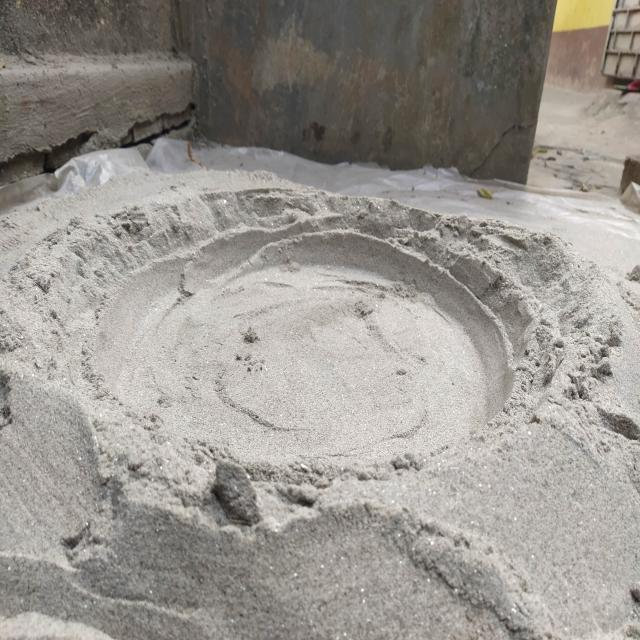C40: (82, 211, 516, 462)
